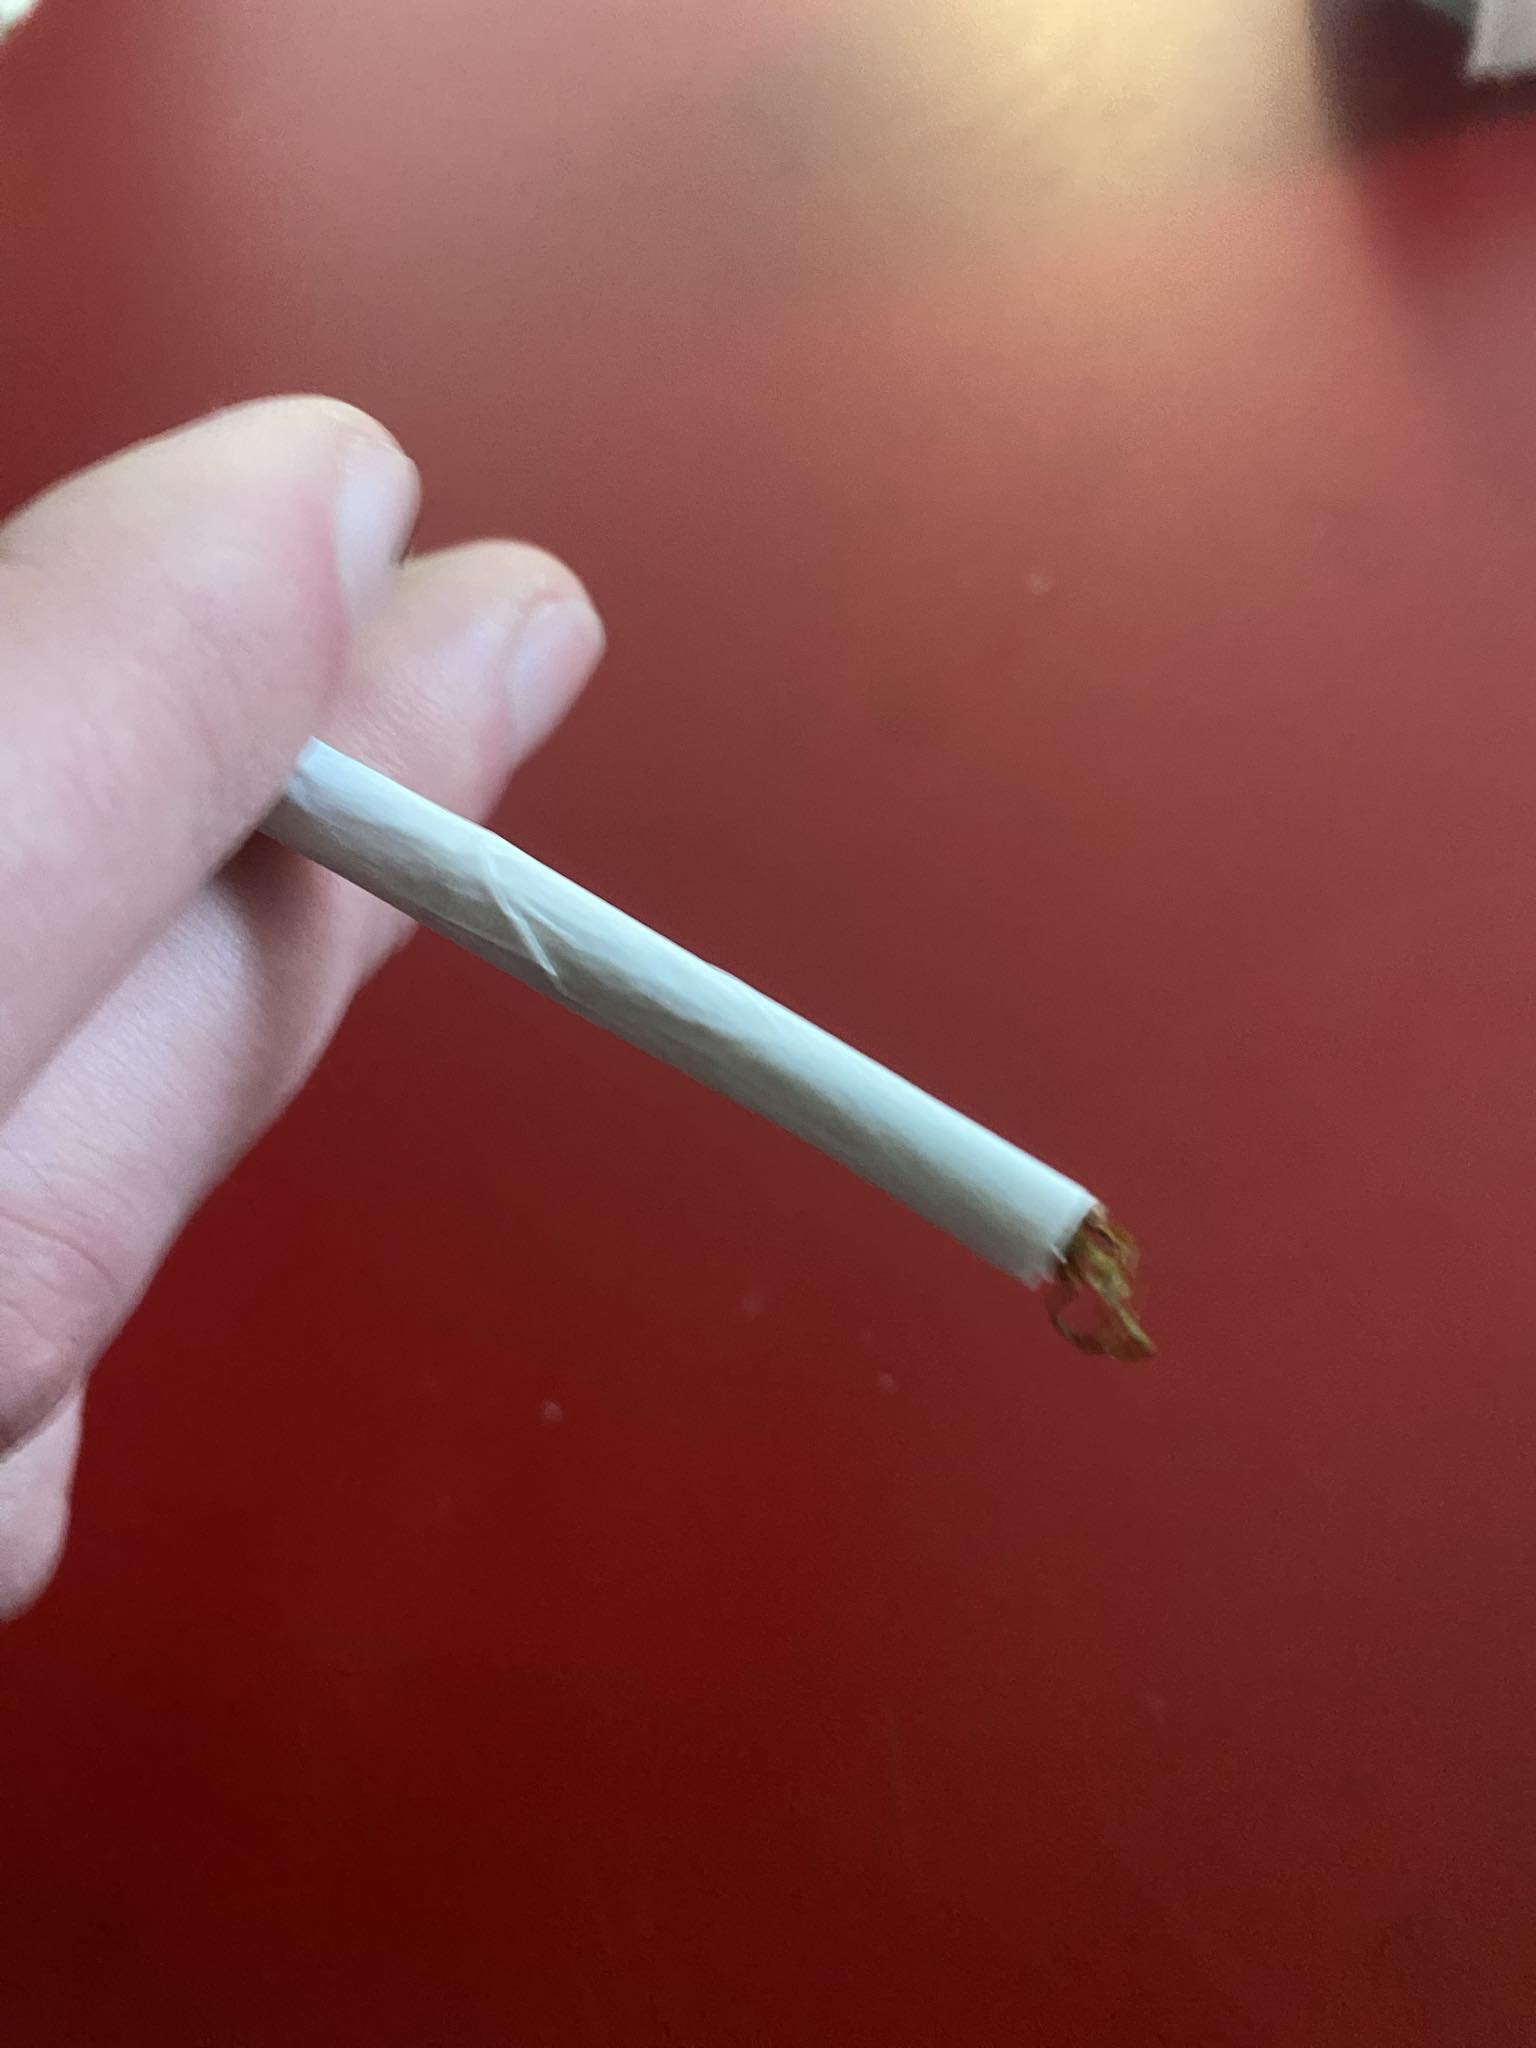Cigarette: (300, 735, 1158, 1371)
